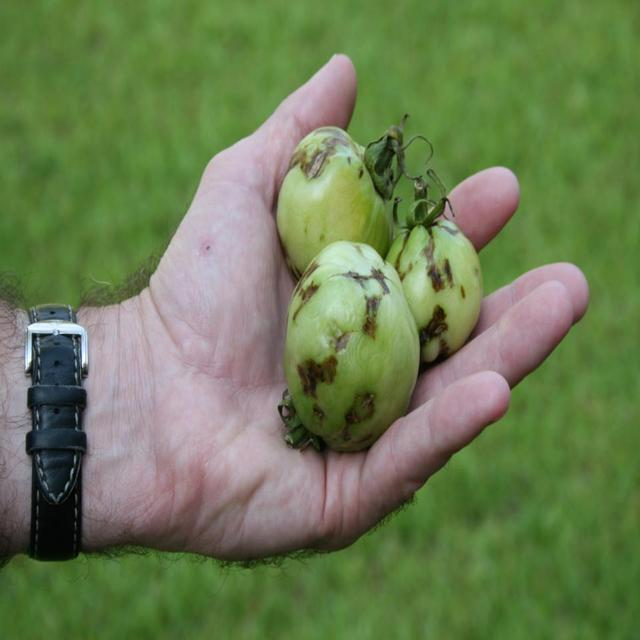Spotted wilt Virus Fruit: (195, 96, 276, 196)
